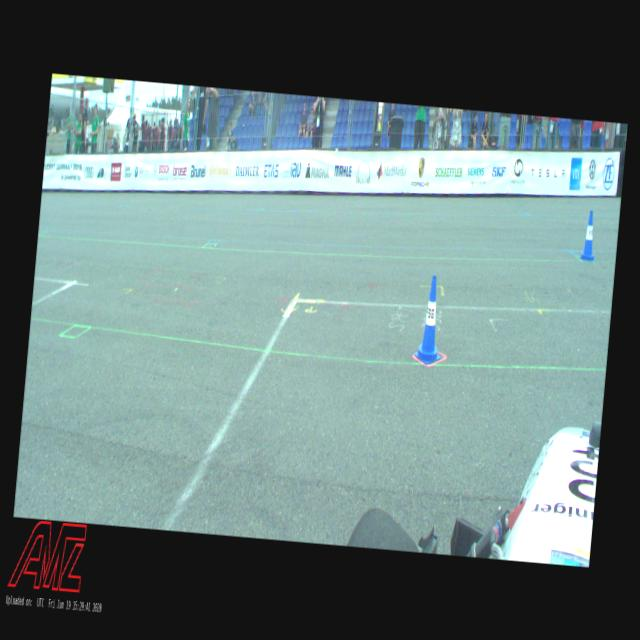blue_cone: (412, 272, 448, 366), (578, 208, 598, 262)
